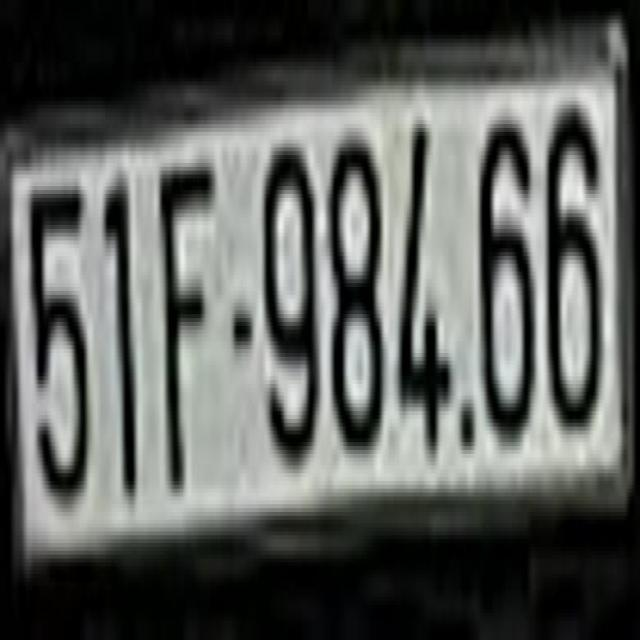1: (103, 151, 142, 524)
4: (396, 105, 452, 454)
5: (28, 167, 91, 508)
6: (545, 97, 605, 450), (481, 97, 536, 450)
8: (325, 113, 386, 473)
9: (261, 116, 318, 481)
F: (157, 143, 220, 516)
